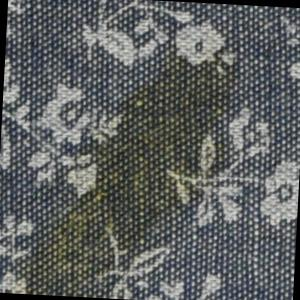Oil Stain: (14, 28, 243, 300)
